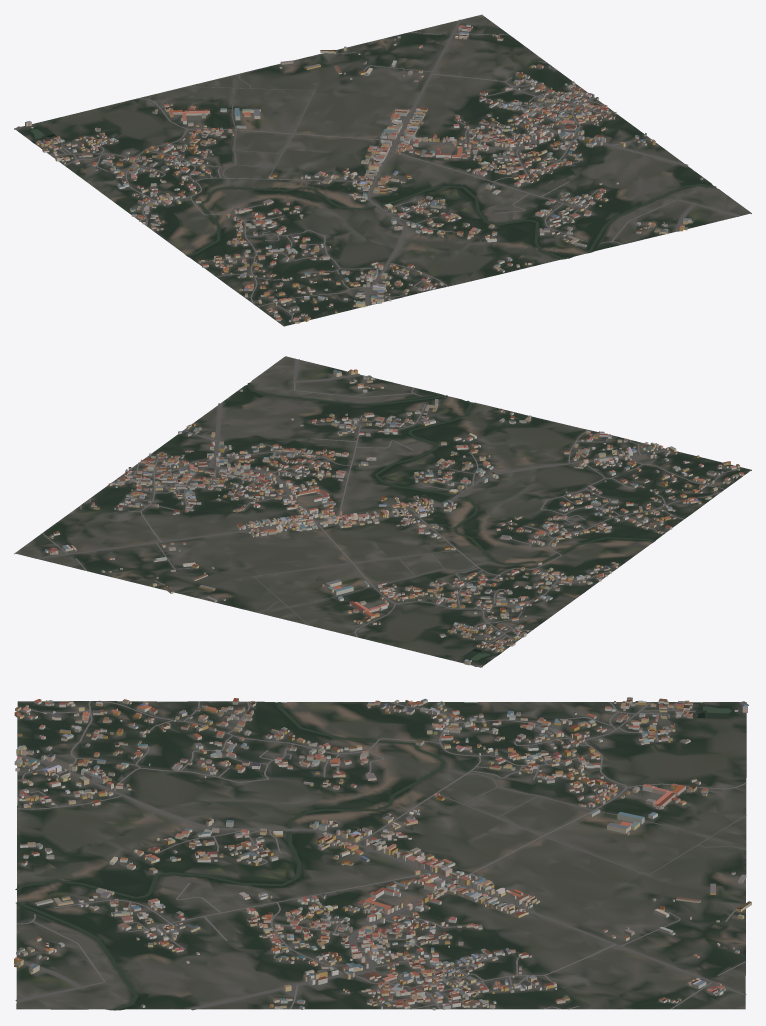
The picture shows the model from 3 angles, top to bottom: view 1: azimuth 30°, elevation 25°; view 2: azimuth 150°, elevation 25°; view 3: azimuth 270°, elevation 25°; orthographic projection. The views are drawn at different scales.
Visible parts, largest first — view 1: ground, buildings, roads, water; view 2: ground, buildings, roads, water; view 3: ground, buildings, roads, water.
Boxes of the visible parts, left/top/right/bottom form: ground: left=14, top=15, right=751, bottom=326; buildings: left=25, top=24, right=703, bottom=323; roads: left=14, top=14, right=740, bottom=321; water: left=30, top=127, right=716, bottom=258; ground: left=14, top=356, right=751, bottom=667; buildings: left=45, top=369, right=744, bottom=665; roads: left=14, top=359, right=737, bottom=667; water: left=247, top=382, right=654, bottom=660; ground: left=16, top=701, right=746, bottom=1010; buildings: left=14, top=697, right=751, bottom=1010; roads: left=15, top=700, right=748, bottom=1010; water: left=15, top=702, right=731, bottom=1010.
Bounding box in the file's own units: 1409 × 18.25 × 1419.
